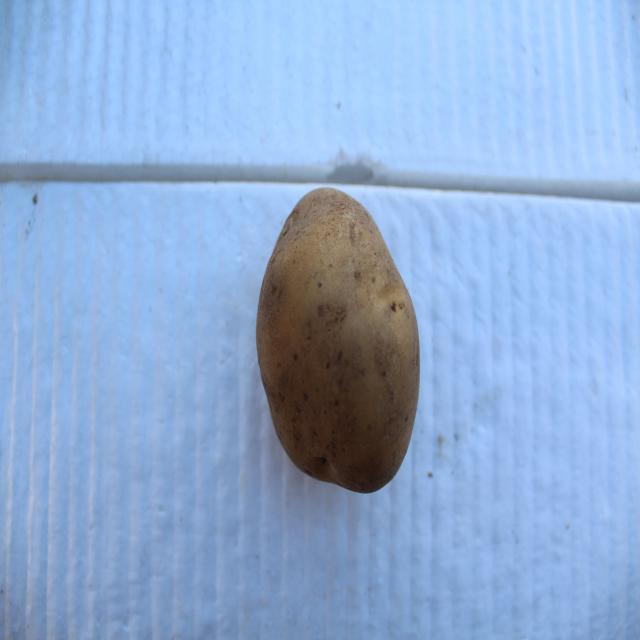potato: (256, 184, 420, 494)
